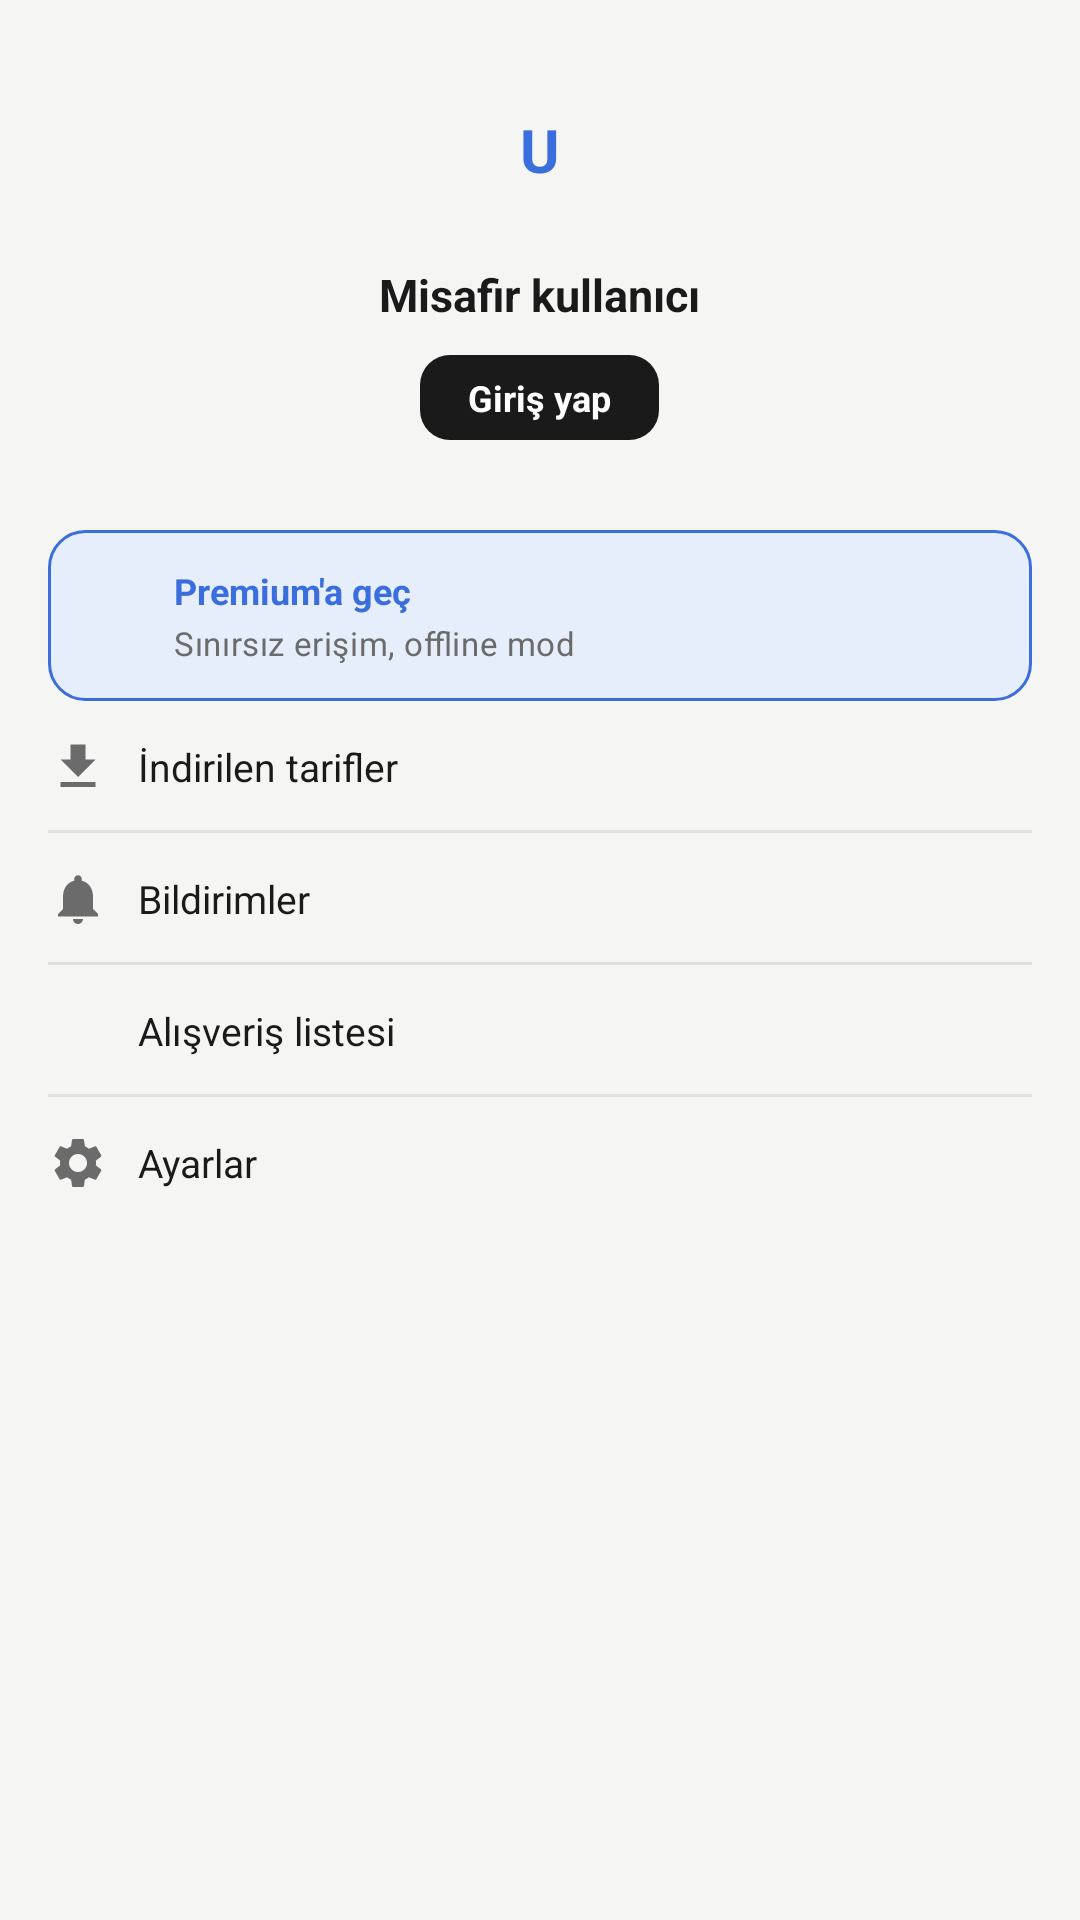

Where to tap for icons on this 1080w x 1920h app screen, as (x,y):
bell: (78,899)
download: (78,765)
settings: (78,1163)
